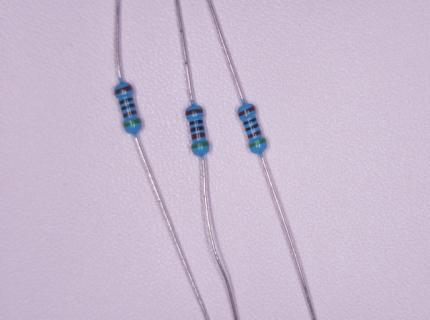Brown band: (122, 110, 138, 119), (191, 132, 205, 141), (248, 130, 262, 139)
Green band: (249, 137, 266, 148), (123, 118, 141, 128), (192, 142, 209, 150)
